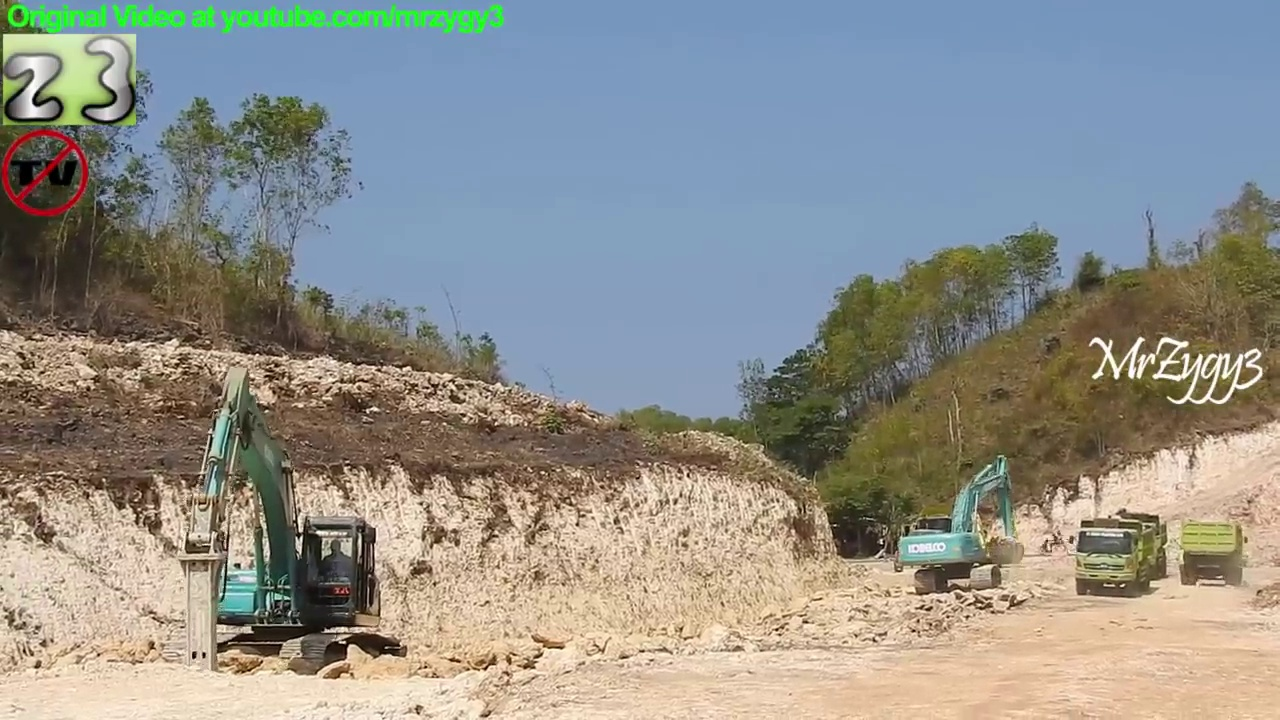excavator: (892, 451, 1027, 595)
excavator breaker: (155, 362, 412, 682)
truck: (1065, 517, 1157, 600), (1082, 507, 1169, 585), (1175, 519, 1250, 592)
